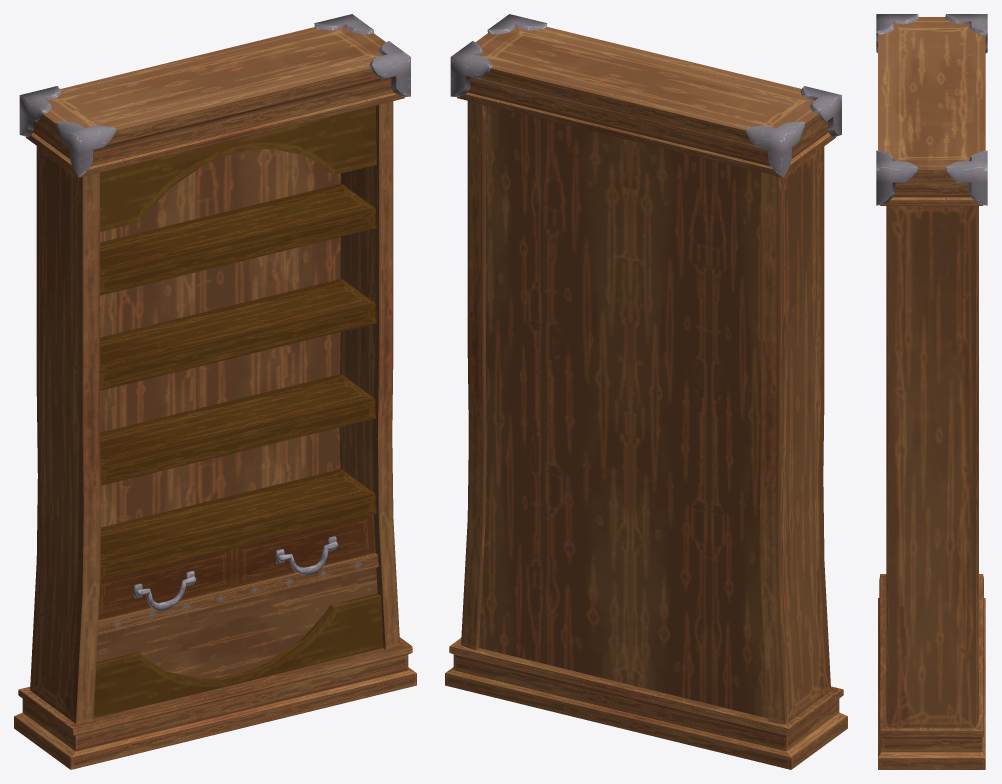
Rendered from bookcase_2.glb.
3 renders of one model, left to right at view 1: azimuth 30°, elevation 25°; view 2: azimuth 150°, elevation 25°; view 3: azimuth 270°, elevation 25°, orthographic. The views are drawn at different scales.
Visible parts, largest first — view 1: Bookcase_2; view 2: Bookcase_2; view 3: Bookcase_2.
Boxes of the visible parts, <box> form: Bookcase_2: <box>14,14,416,769</box>; Bookcase_2: <box>445,14,847,769</box>; Bookcase_2: <box>876,14,987,769</box>.
Bounding box in the file's own units: 1.46 × 2.54 × 0.429.
Materials: 2 (2 with a texture image).
